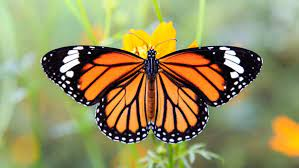butterfly: (41, 45, 262, 143)
flower: (121, 19, 178, 45)
